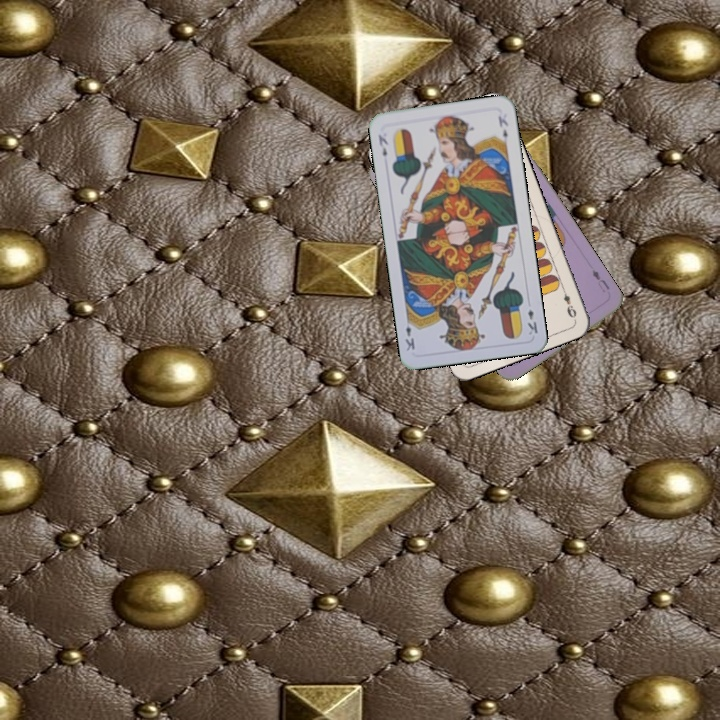E9: (558, 283, 579, 320)
EK: (523, 305, 540, 337), (374, 131, 391, 159)
EU: (588, 265, 612, 295)
